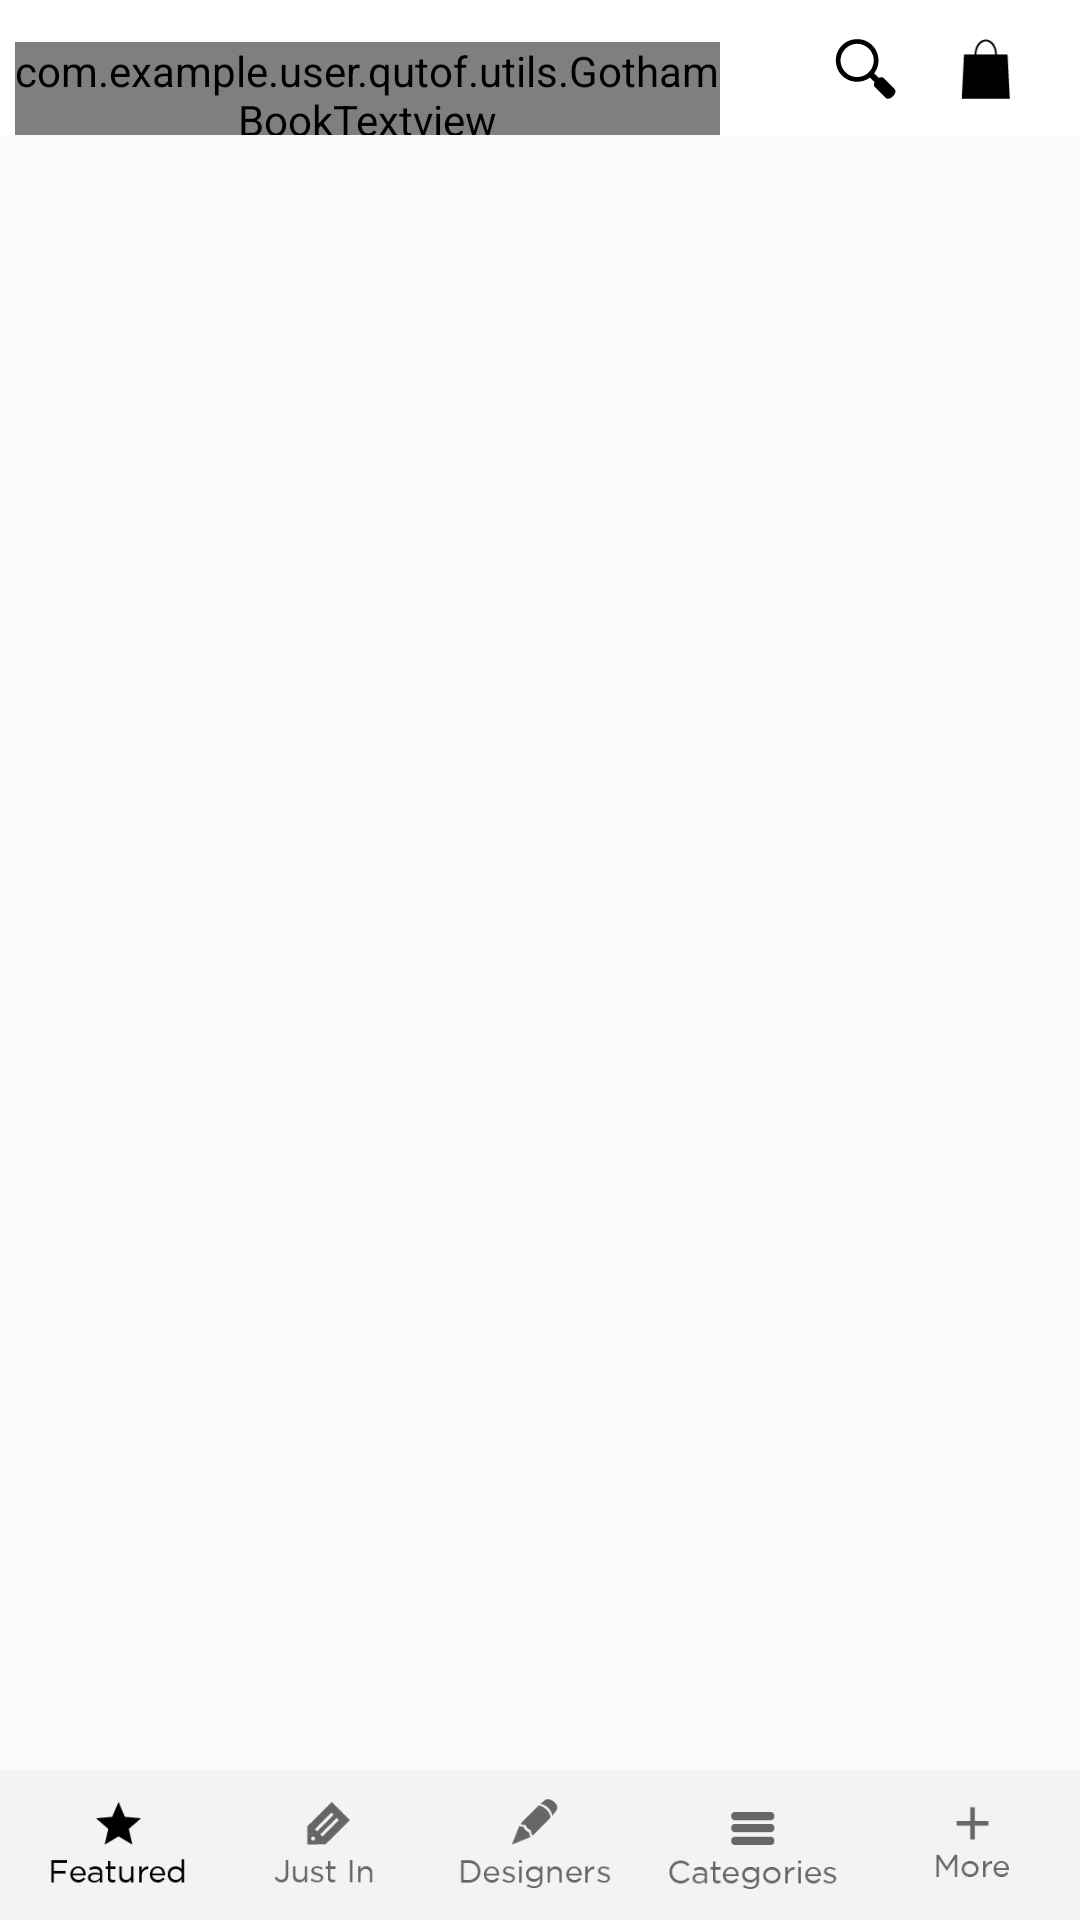

Named icons in this screenshot (1080 × 1920) and their centers, (x=x, y=y):
bag: (x=985, y=69)
search: (x=865, y=69)
